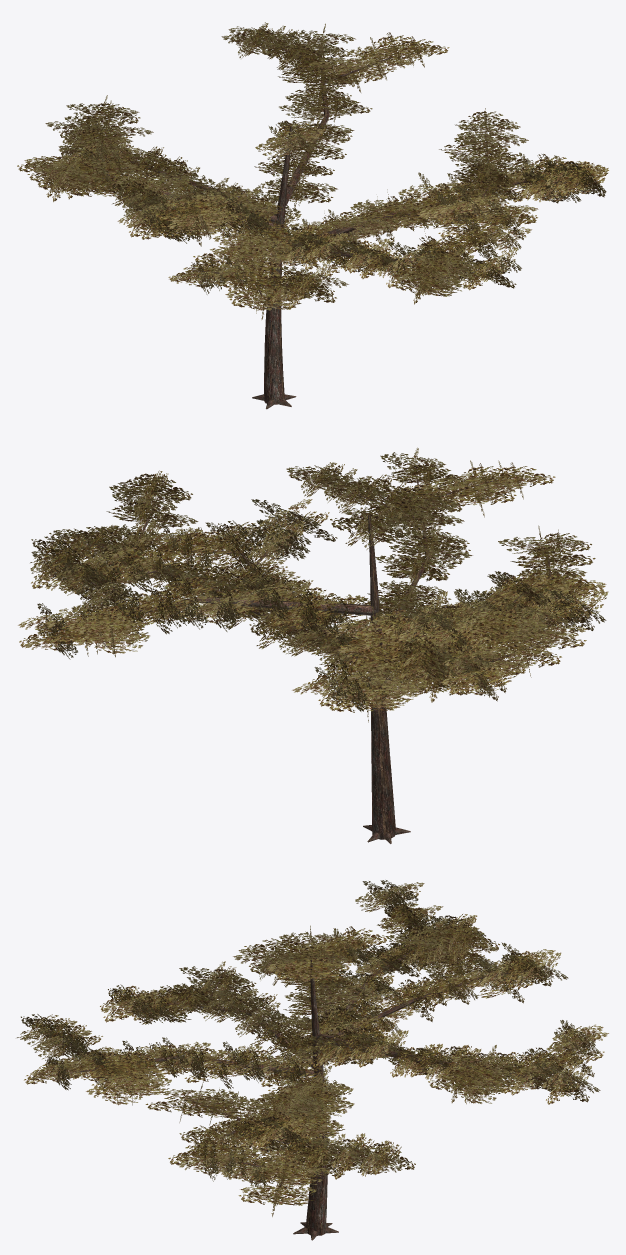
Rendered from tree_3d_06_golden_beige_lod0.glb.
3 renders of one model, top to bottom at view 1: azimuth 30°, elevation 25°; view 2: azimuth 150°, elevation 25°; view 3: azimuth 270°, elevation 25°, orthographic. The views are drawn at different scales.
Visible parts, largest first — view 1: foliage_cards, wood_geometry; view 2: foliage_cards, wood_geometry; view 3: foliage_cards, wood_geometry.
Part boxes in pixels (<box>): foliage_cards: <box>17,22,608,319</box>; wood_geometry: <box>57,40,575,409</box>; foliage_cards: <box>18,447,608,722</box>; wood_geometry: <box>57,478,580,843</box>; foliage_cards: <box>17,880,608,1216</box>; wood_geometry: <box>61,903,582,1240</box>.
Size of the model in its own units: 14.66 by 7.46 by 14.25.
2 materials, 2 textured.
